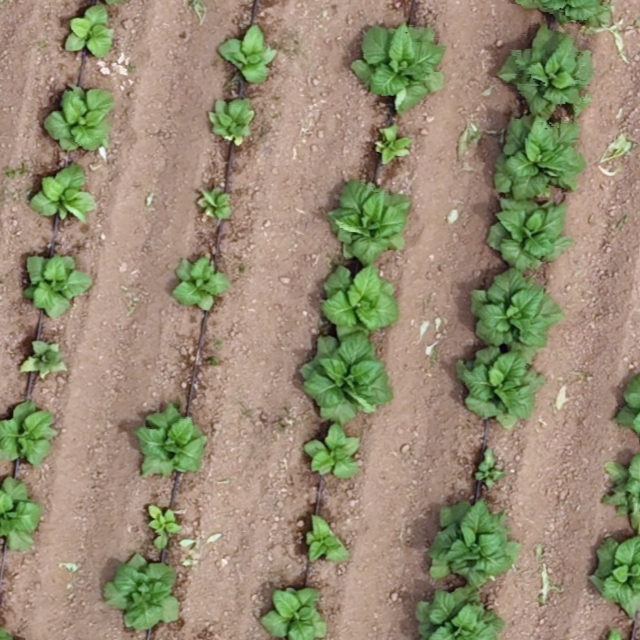grow_tobacco: (350, 16, 447, 112), (496, 25, 594, 116), (297, 332, 392, 423), (490, 111, 585, 202), (425, 495, 517, 588), (463, 269, 560, 352), (454, 343, 544, 428), (99, 548, 184, 637), (327, 175, 410, 264), (131, 399, 209, 483), (314, 262, 399, 338), (484, 197, 570, 271), (40, 80, 116, 157), (18, 245, 92, 319), (410, 584, 503, 639), (588, 526, 640, 616), (25, 160, 95, 226), (258, 575, 327, 639), (1, 398, 60, 468), (168, 251, 228, 314), (216, 24, 276, 87), (299, 423, 361, 482), (1, 472, 45, 553), (61, 1, 115, 62), (601, 450, 640, 526), (296, 513, 346, 568), (513, 1, 606, 30), (207, 91, 255, 147), (18, 333, 66, 383), (612, 360, 640, 445), (143, 499, 182, 549), (370, 121, 412, 167), (470, 448, 508, 491), (195, 182, 232, 224), (585, 629, 640, 640)
